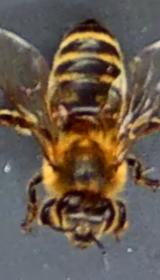varroa_mite: (43, 96, 71, 132)
